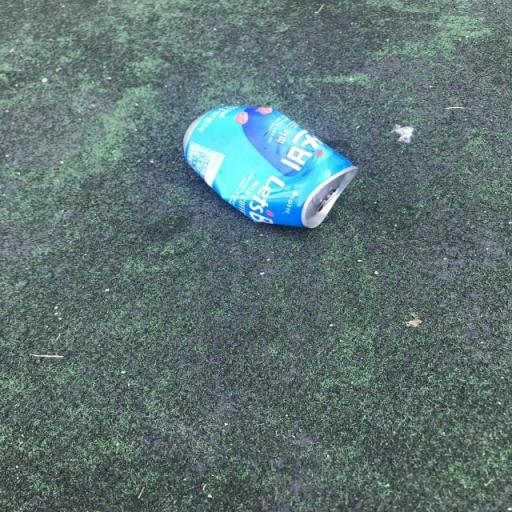metal: (158, 68, 384, 269)
